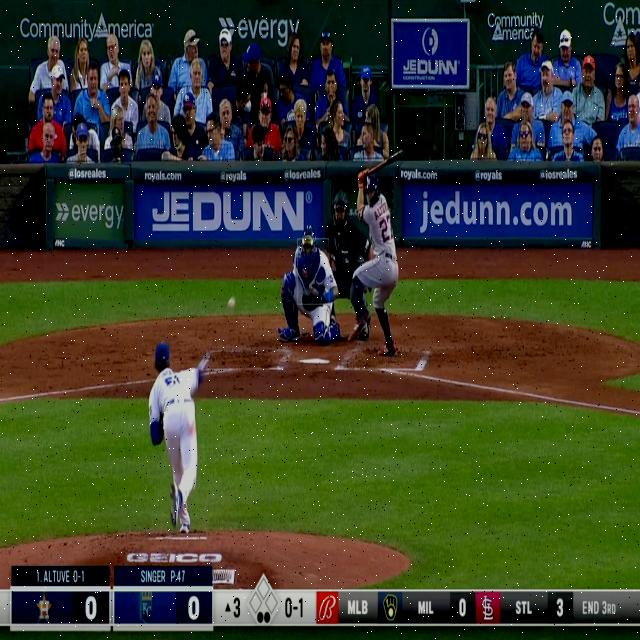baseball: (228, 295, 235, 310)
